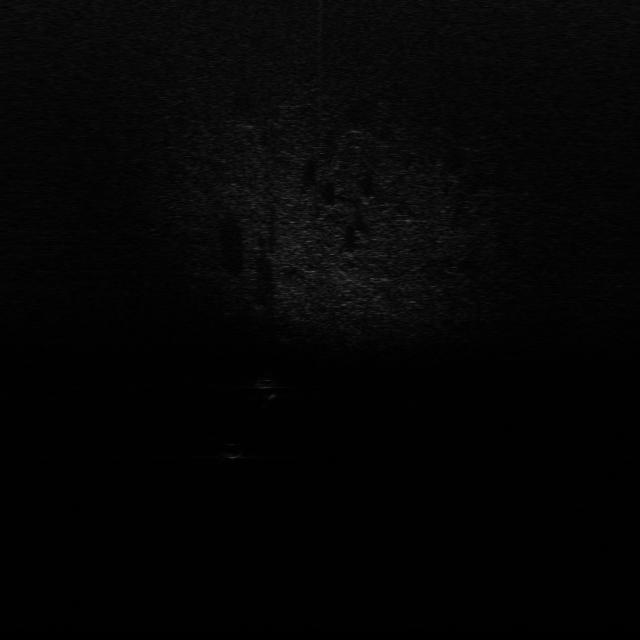ball: (222, 440, 246, 461)
human body: (252, 367, 280, 410)
